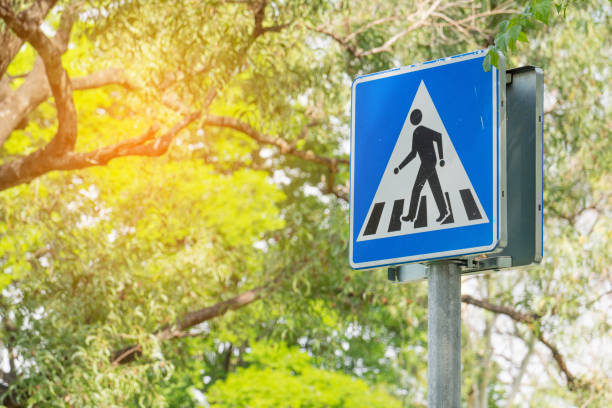yaya_gecidi: (347, 46, 507, 272)
